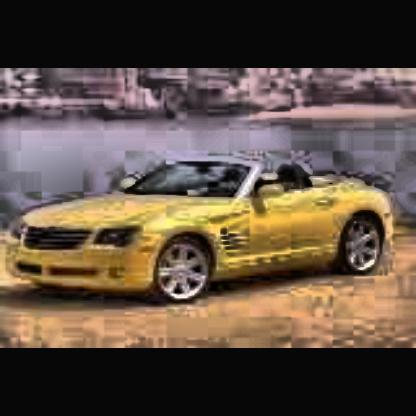Chrysler Crossfire Convertible 2008: (22, 159, 401, 307)
